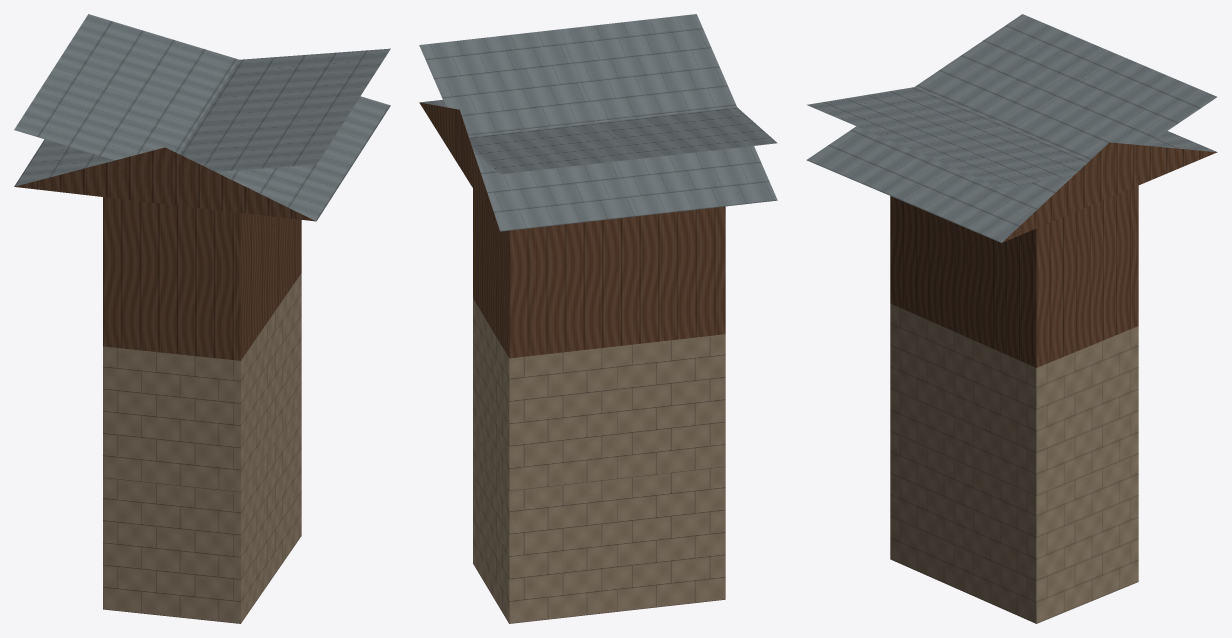
File: bld_c-19_16_526.gltf
3 views of the same model, side by side, from view 1: azimuth 30°, elevation 25°; view 2: azimuth 150°, elevation 25°; view 3: azimuth 270°, elevation 25° (orthographic). The views are drawn at different scales.
Parts seen in each view (by area): view 1: bld_c-19_16_526; view 2: bld_c-19_16_526; view 3: bld_c-19_16_526.
Part boxes in pixels (x1=…): bld_c-19_16_526: x1=14, y1=14, x2=390, y2=623; bld_c-19_16_526: x1=419, y1=14, x2=777, y2=623; bld_c-19_16_526: x1=806, y1=14, x2=1217, y2=623.
Bounding box in the file's own units: 6.74 × 8.5 × 6.75.
Materials: 4 (4 with a texture image).
